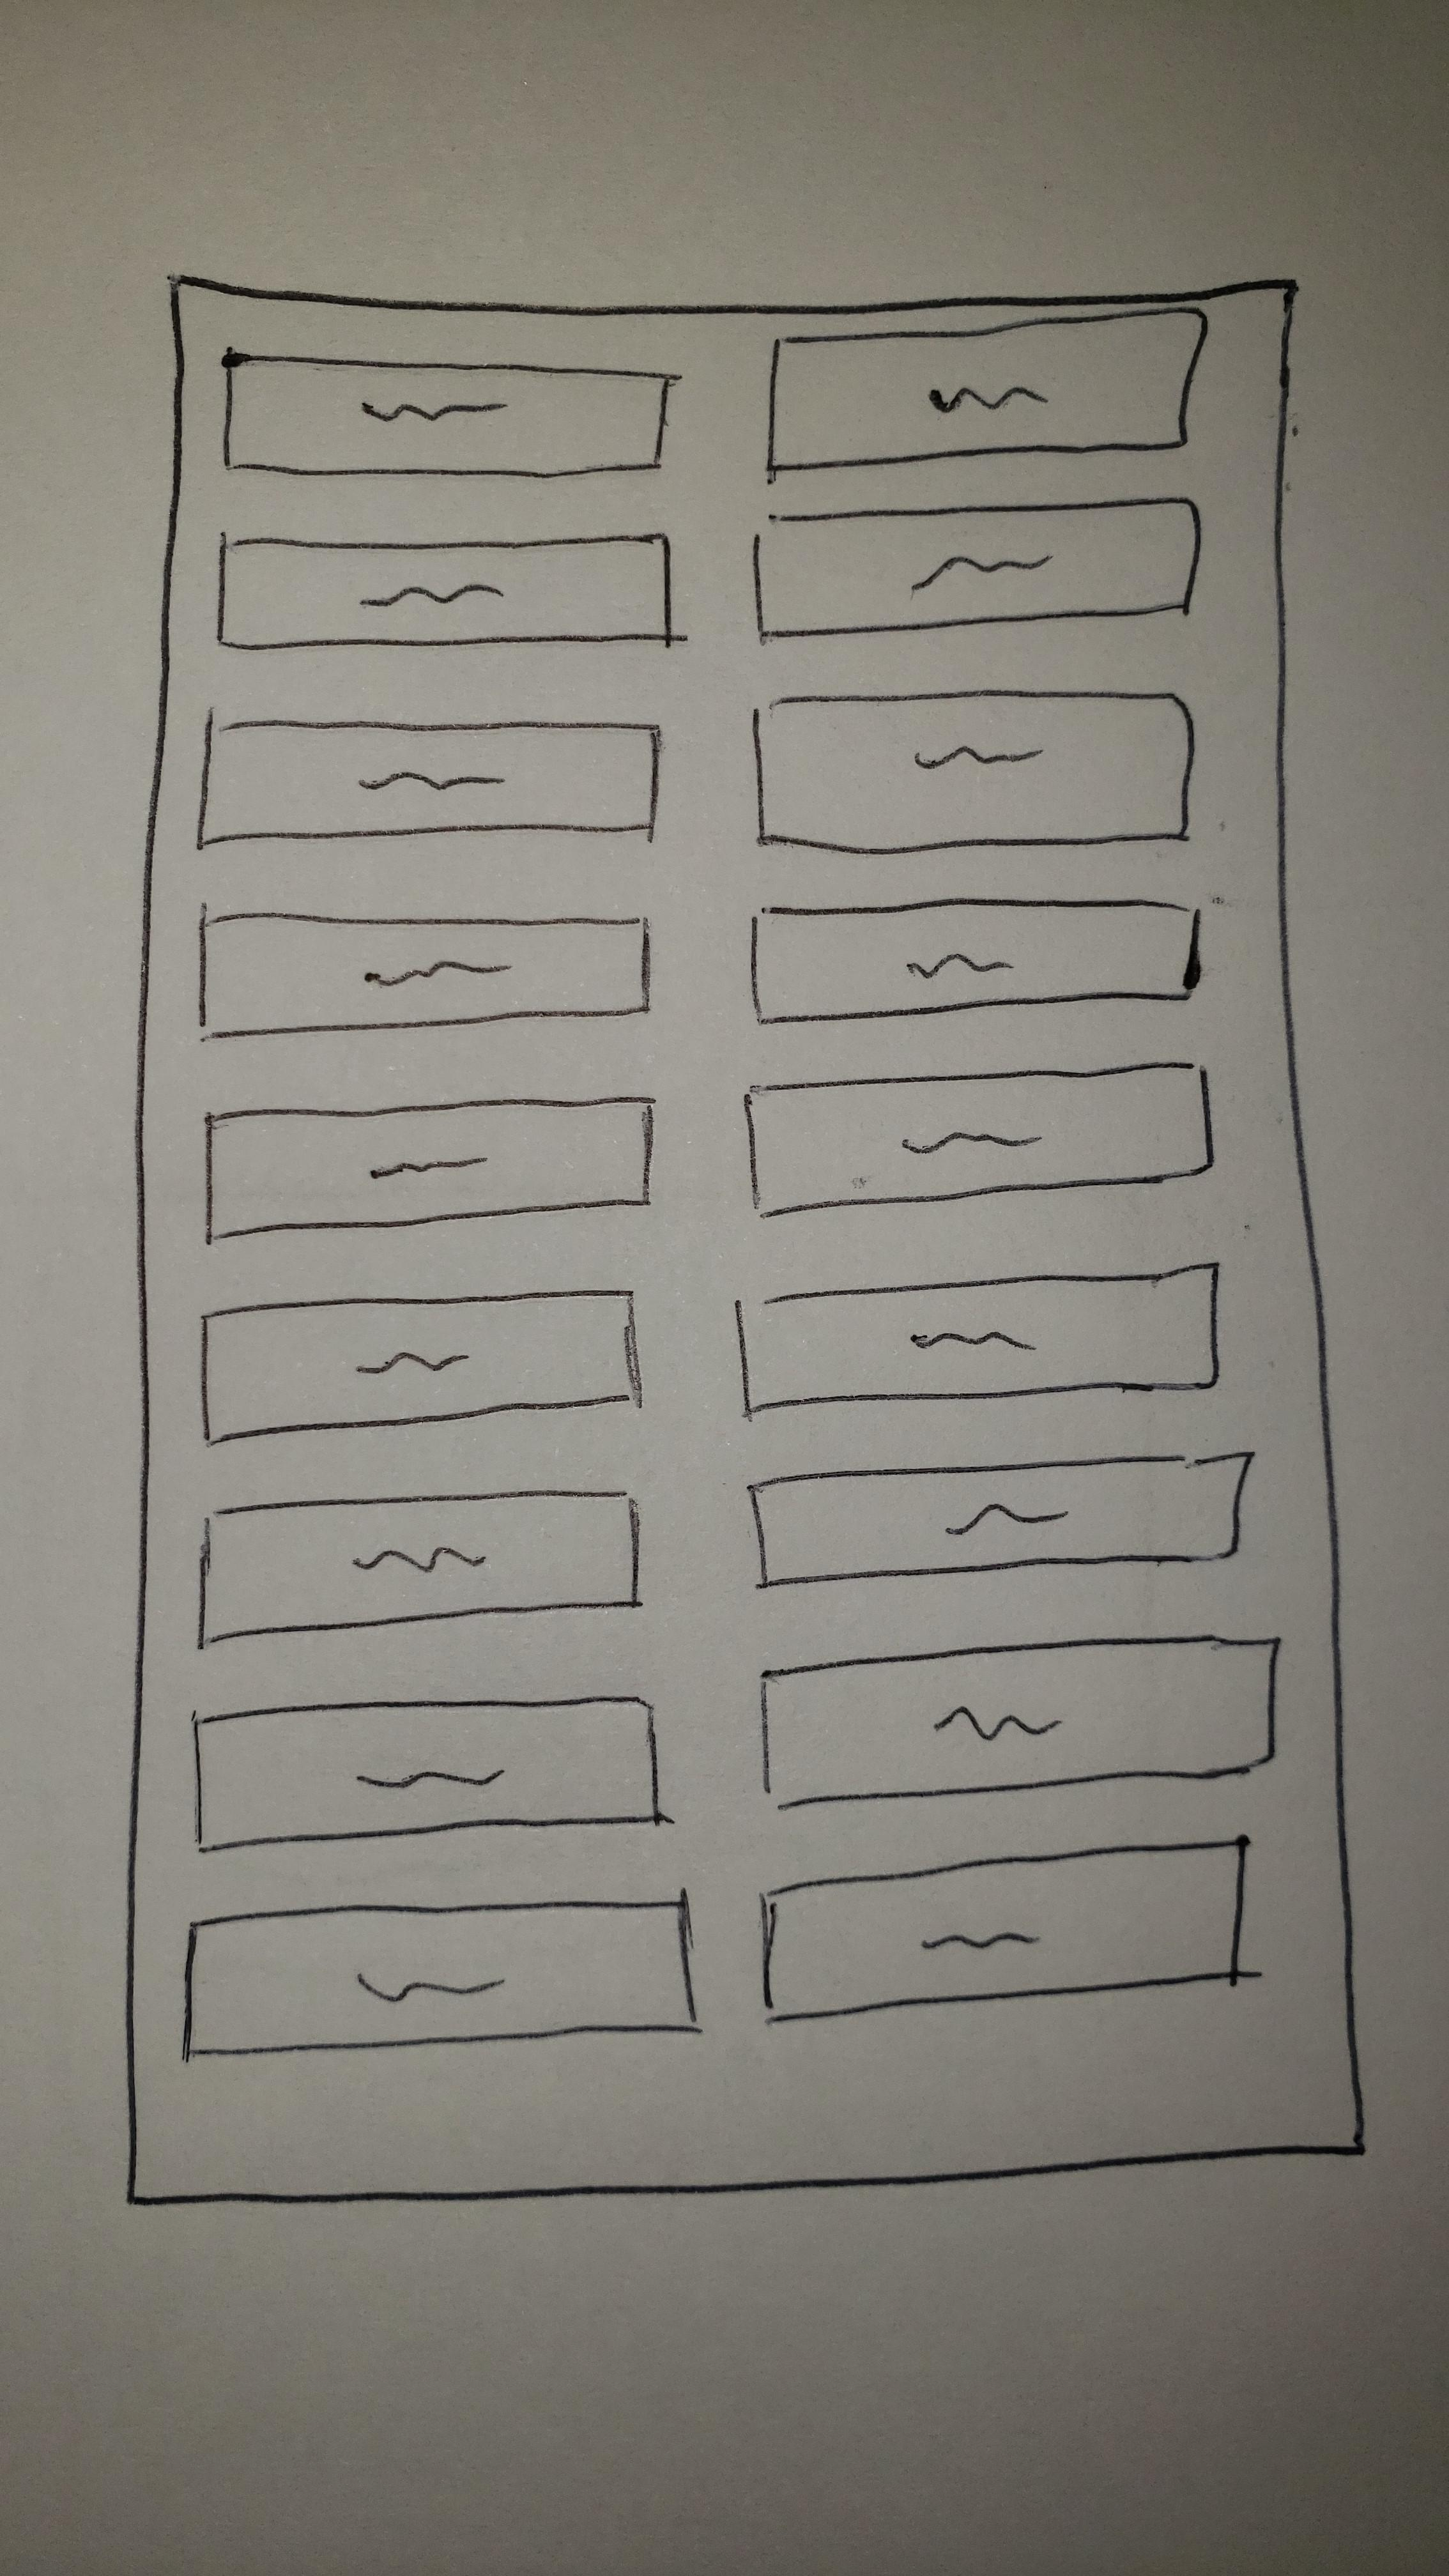Button: (763, 1631, 1281, 1812), (757, 1844, 1249, 2022), (184, 1902, 694, 2061), (736, 1261, 1221, 1417), (743, 1062, 1217, 1219), (766, 308, 1207, 476), (755, 690, 1196, 855), (195, 1490, 639, 1651), (189, 1698, 658, 1849), (752, 1451, 1256, 1587), (203, 1292, 639, 1447), (205, 1097, 655, 1244), (755, 497, 1200, 637), (195, 718, 662, 849), (750, 897, 1201, 1026), (195, 913, 655, 1039), (216, 529, 674, 653), (225, 354, 667, 478)
Screen: (122, 274, 1364, 2203)
